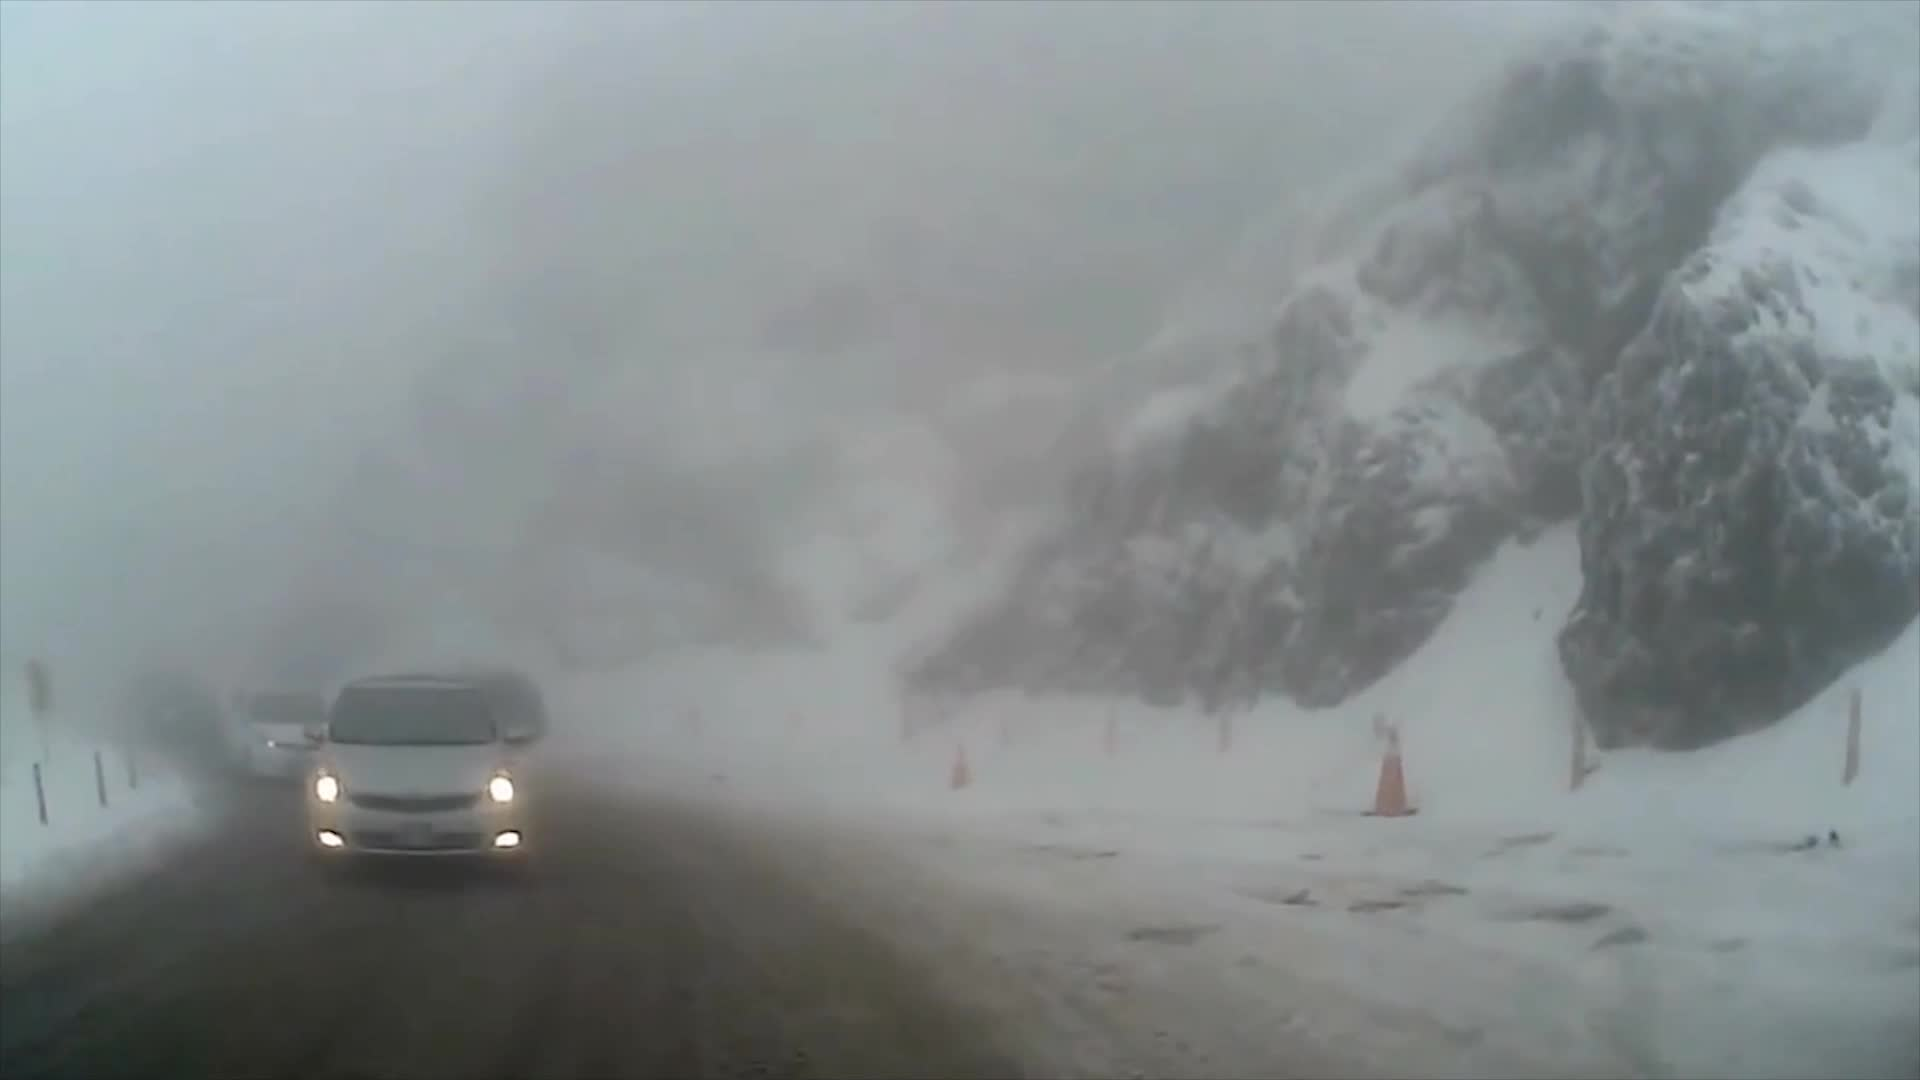vehicle: (299, 673, 530, 882), (214, 684, 349, 782)
